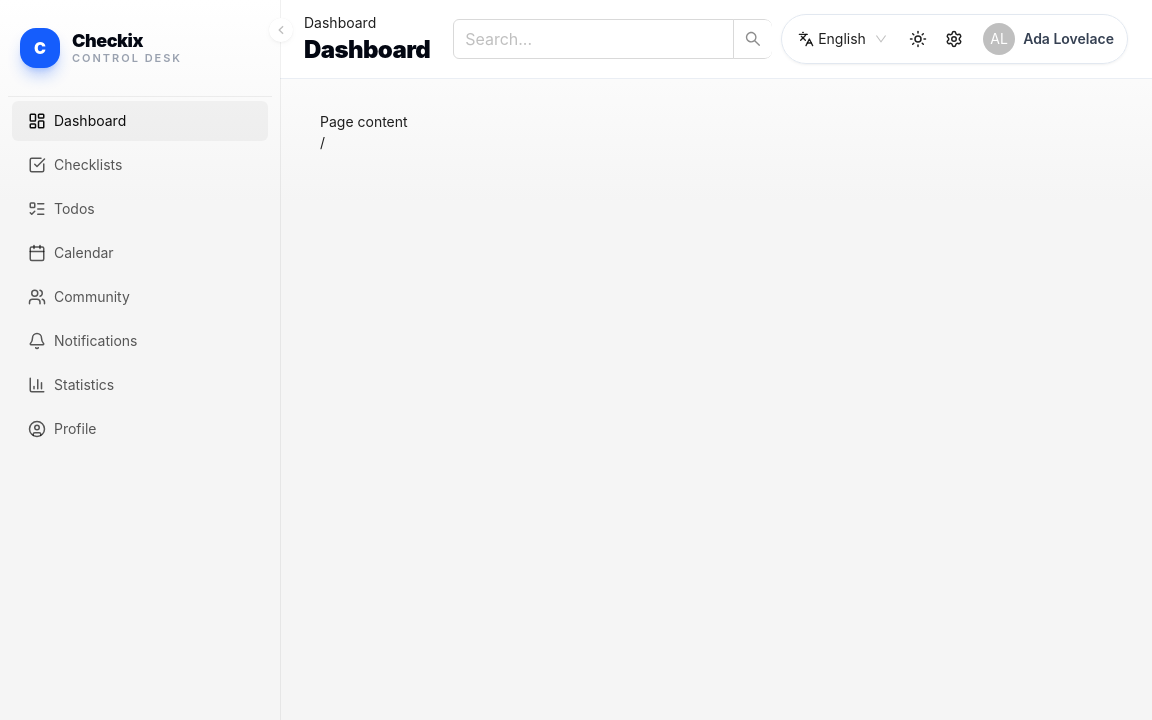
Test case: Layout › navigates from global search results
Type "daily" into the dropdown with placeholder "Search...".
click(586, 39); type("daily")  # box [465,19,706,59]
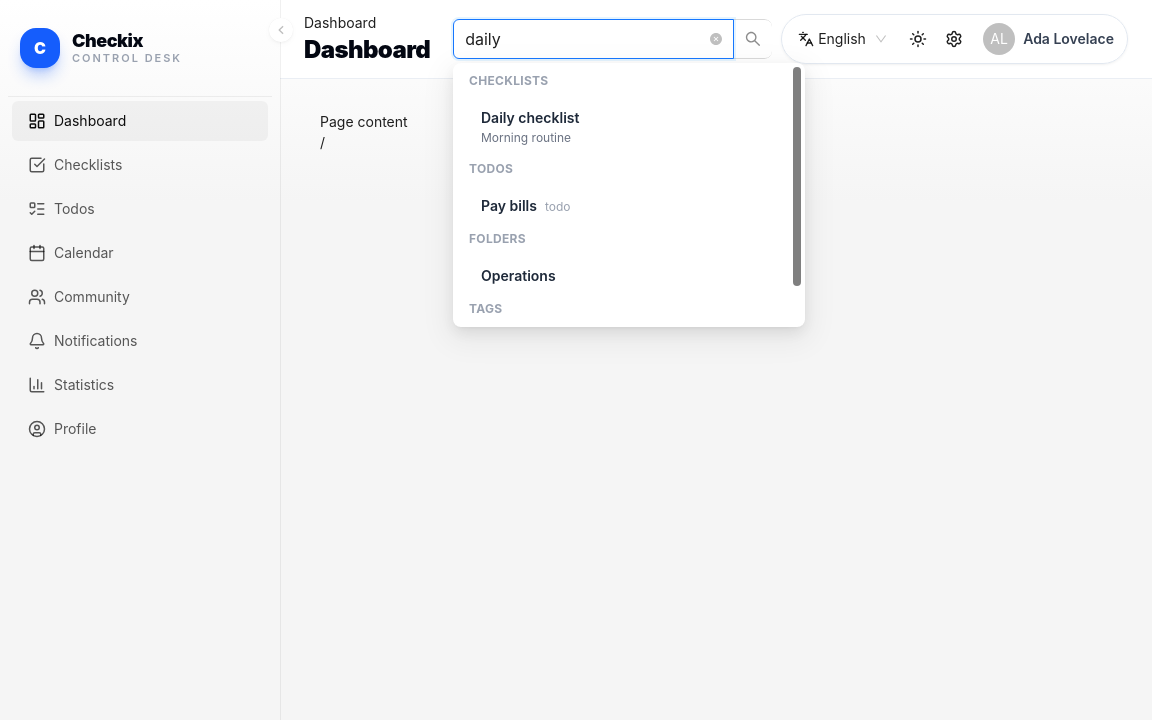
Now the text "Folders" is shown, box [469,231,526,246]
Click the text "Daily checklist".
click(530, 118)  # box [481,109,580,126]
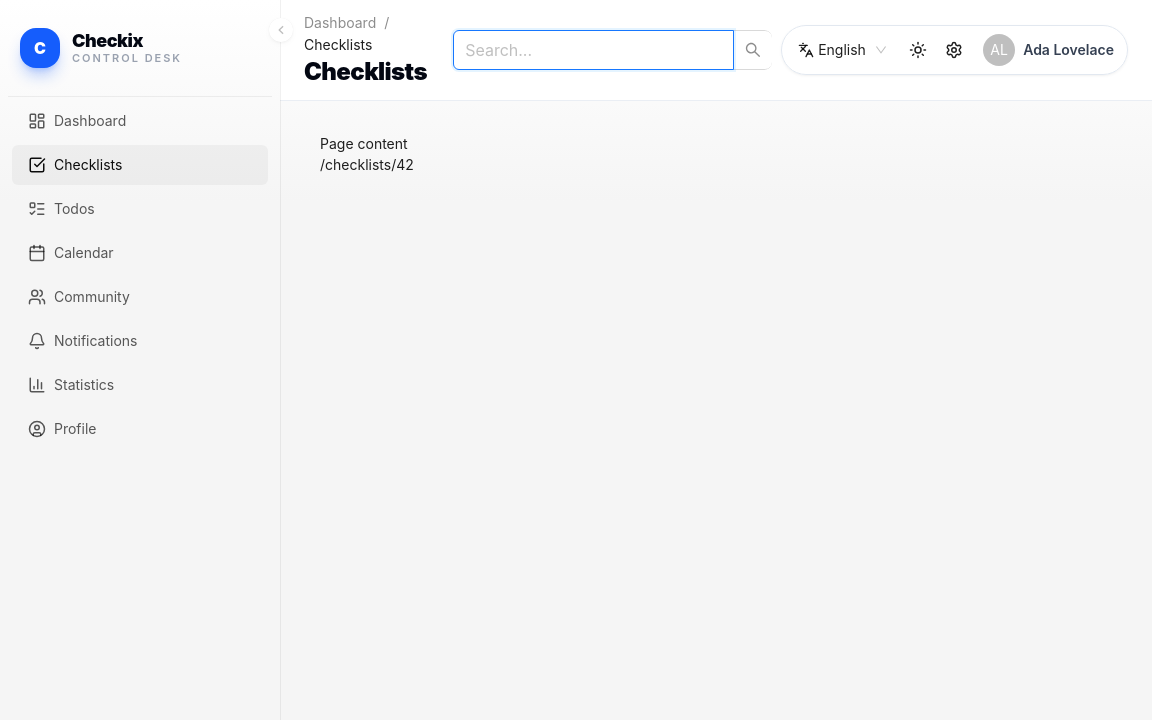
Now the text with test id "location" reads "/checklists/42", box [320,156,414,173]
